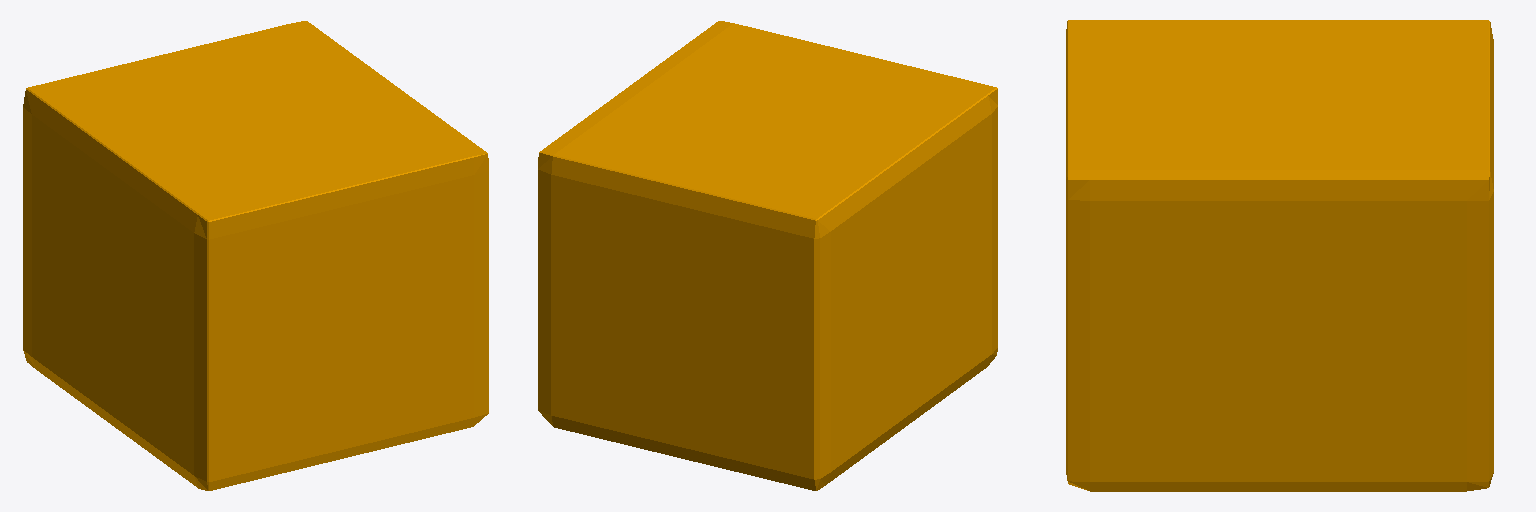
robot.urdf — cylinder_box_34:
<?xml version="1.0" encoding="utf-8"?>  <robot name="cylinder_box_34">   <link name="cylinder_box_34">     <visual>       <geometry>         <mesh filename="../meshes/box/box_34.stl" scale="1 1 1"/>       </geometry>     </visual>     <collision>       <geometry>         <mesh filename="../meshes/box/box_34.stl" scale="1 1 1"/>       </geometry>     </collision>     <inertial>        <origin         xyz="0 0 0"         rpy="0 0 0" />       <mass value="0.6627019478400165"/>       <origin rpy="0 0 0" xyz="0 0 0"/>       <inertia ixx="0.0008615439135132329" ixy="3.568700164401642e-07" ixz="-1.105830617892959e-06" iyy="0.0007590780854339886" iyz="4.1655198717451935e-07" izz="0.0009208468588402217"/>     </inertial>   </link>  </robot>

--- Facts derived from the render (not from the file) ---
3 views of the same robot in one strip: view 1: azimuth 30°, elevation 25°; view 2: azimuth 150°, elevation 25°; view 3: azimuth 270°, elevation 25° (orthographic).
Robot: cylinder_box_34 — 1 links, 0 joints (none); root link cylinder_box_34; default pose: every joint at zero.
Links seen in each view (by area): view 1: cylinder_box_34; view 2: cylinder_box_34; view 3: cylinder_box_34.
Boxes of the visible links, x1,y1,x2,y2 form: cylinder_box_34: [23, 21, 488, 490]; cylinder_box_34: [538, 21, 997, 490]; cylinder_box_34: [1066, 20, 1493, 491].
Bounding box of the posed robot: 0.0864 × 0.0965 × 0.0799 m (x, y, z).
1 mesh visuals loaded from 1 distinct referenced files (1 binary STL).